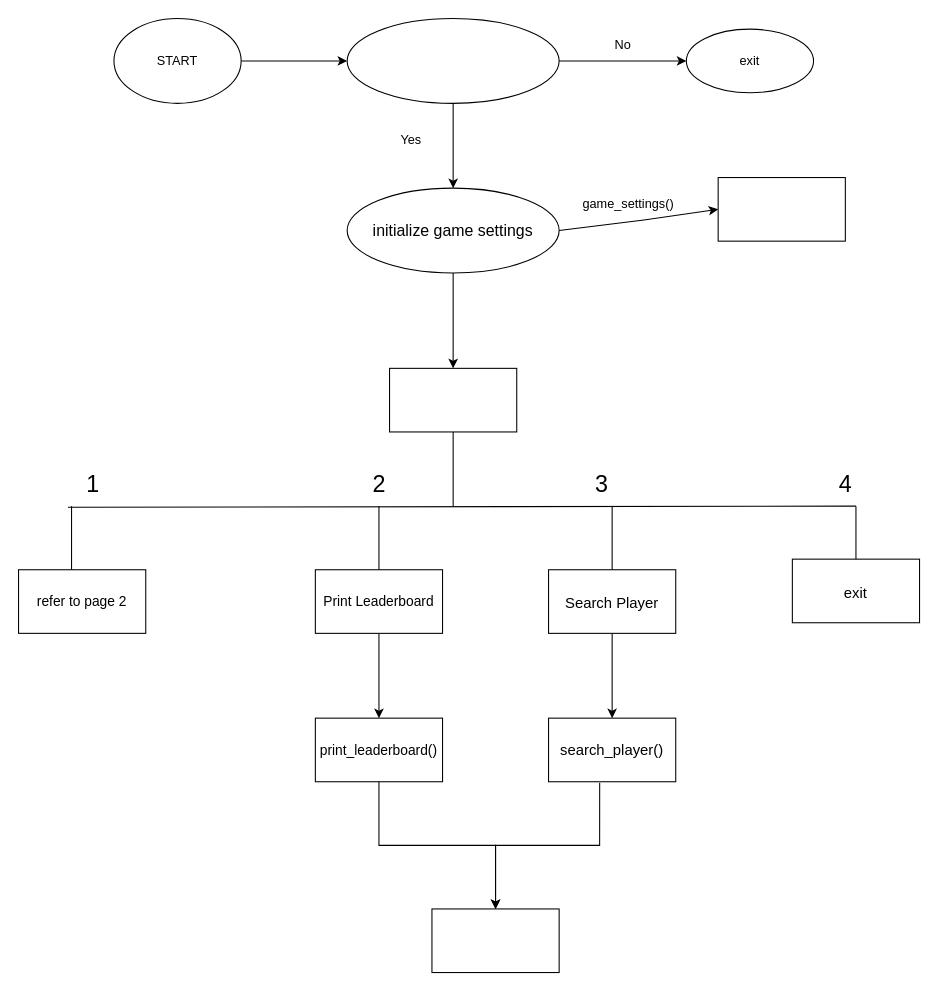
Some shapes in this 938 by 991 pixel diagram are drawn without their labels. The shapes that lost their labels are listed below. From the top down, each one's centre as x and y in pixels, then its label:
point 452,60: if(__name__ == "__main__")
point 781,208: game_settings.txt
point 452,399: print main menu
point 495,940: game_logs.txt
